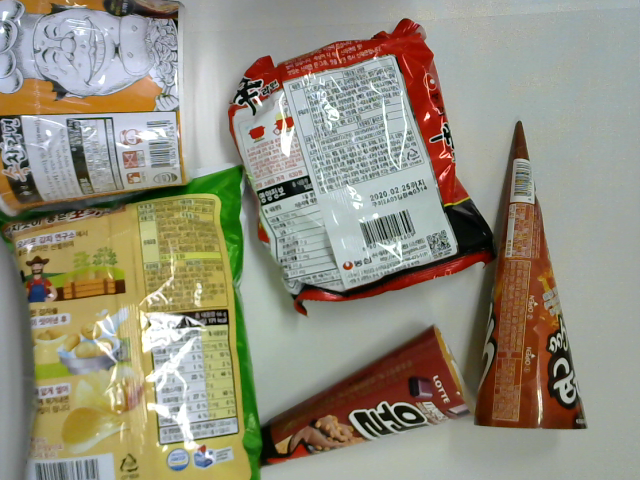GooGoo_Cone_CVS: (470, 117, 599, 436)
Hejangchan: (1, 1, 200, 227)
Pocachip_Onion: (8, 155, 270, 480)
Sinramen: (222, 14, 495, 326)
World_Cone_Choco: (227, 327, 474, 478)
